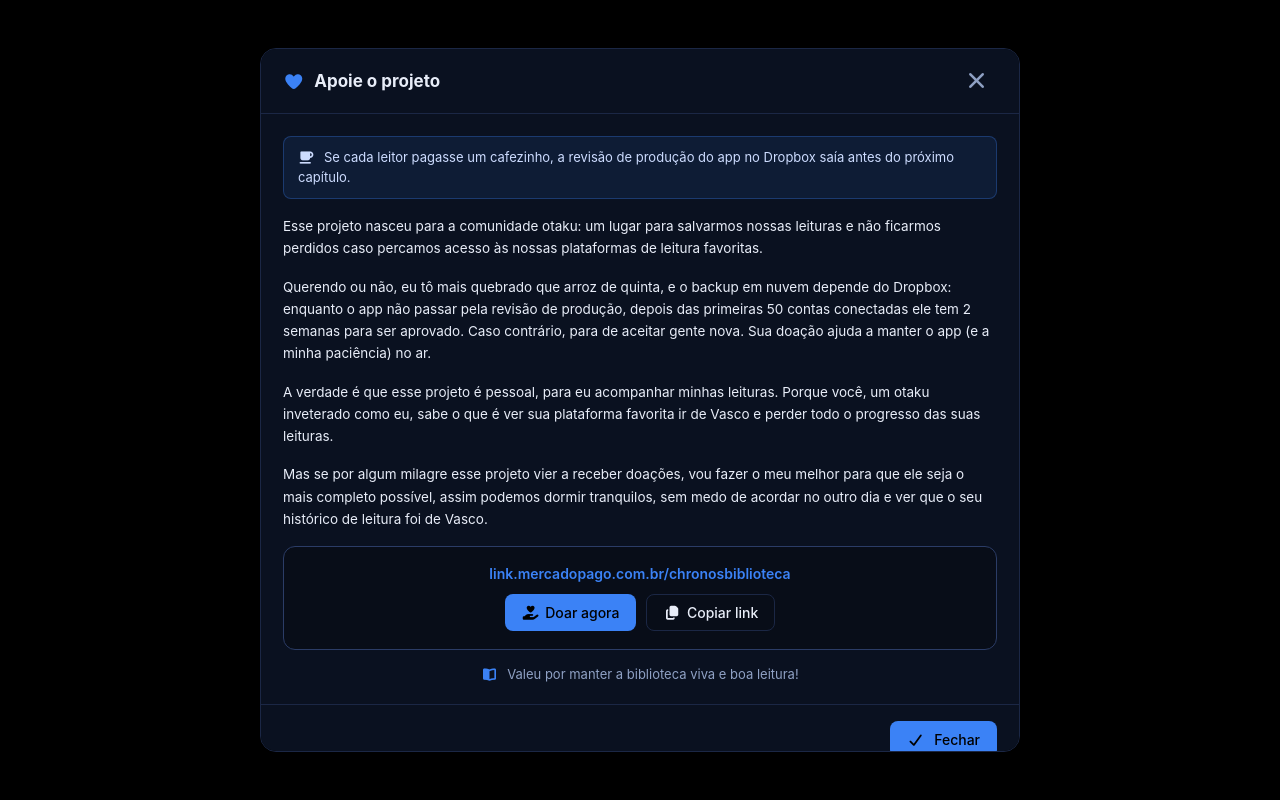
Test: DonateModal: conteúdo › copia o link e mostra confirmação
This screenshot has width=1280, height=800.
Step 1. Click the button "Copiar link" → (711, 613), box [646,594,775,631]
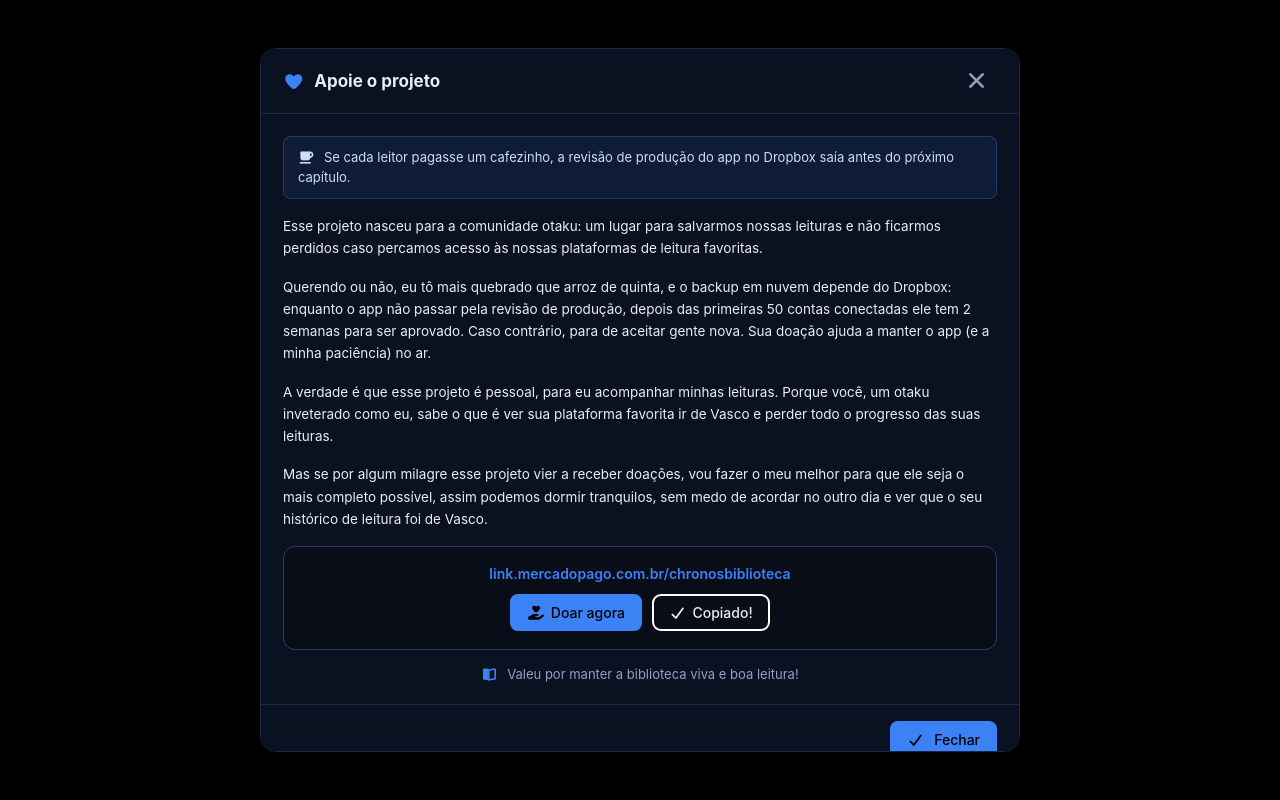
Check: the button "Copiado!" is shown, box [652,594,770,631]
